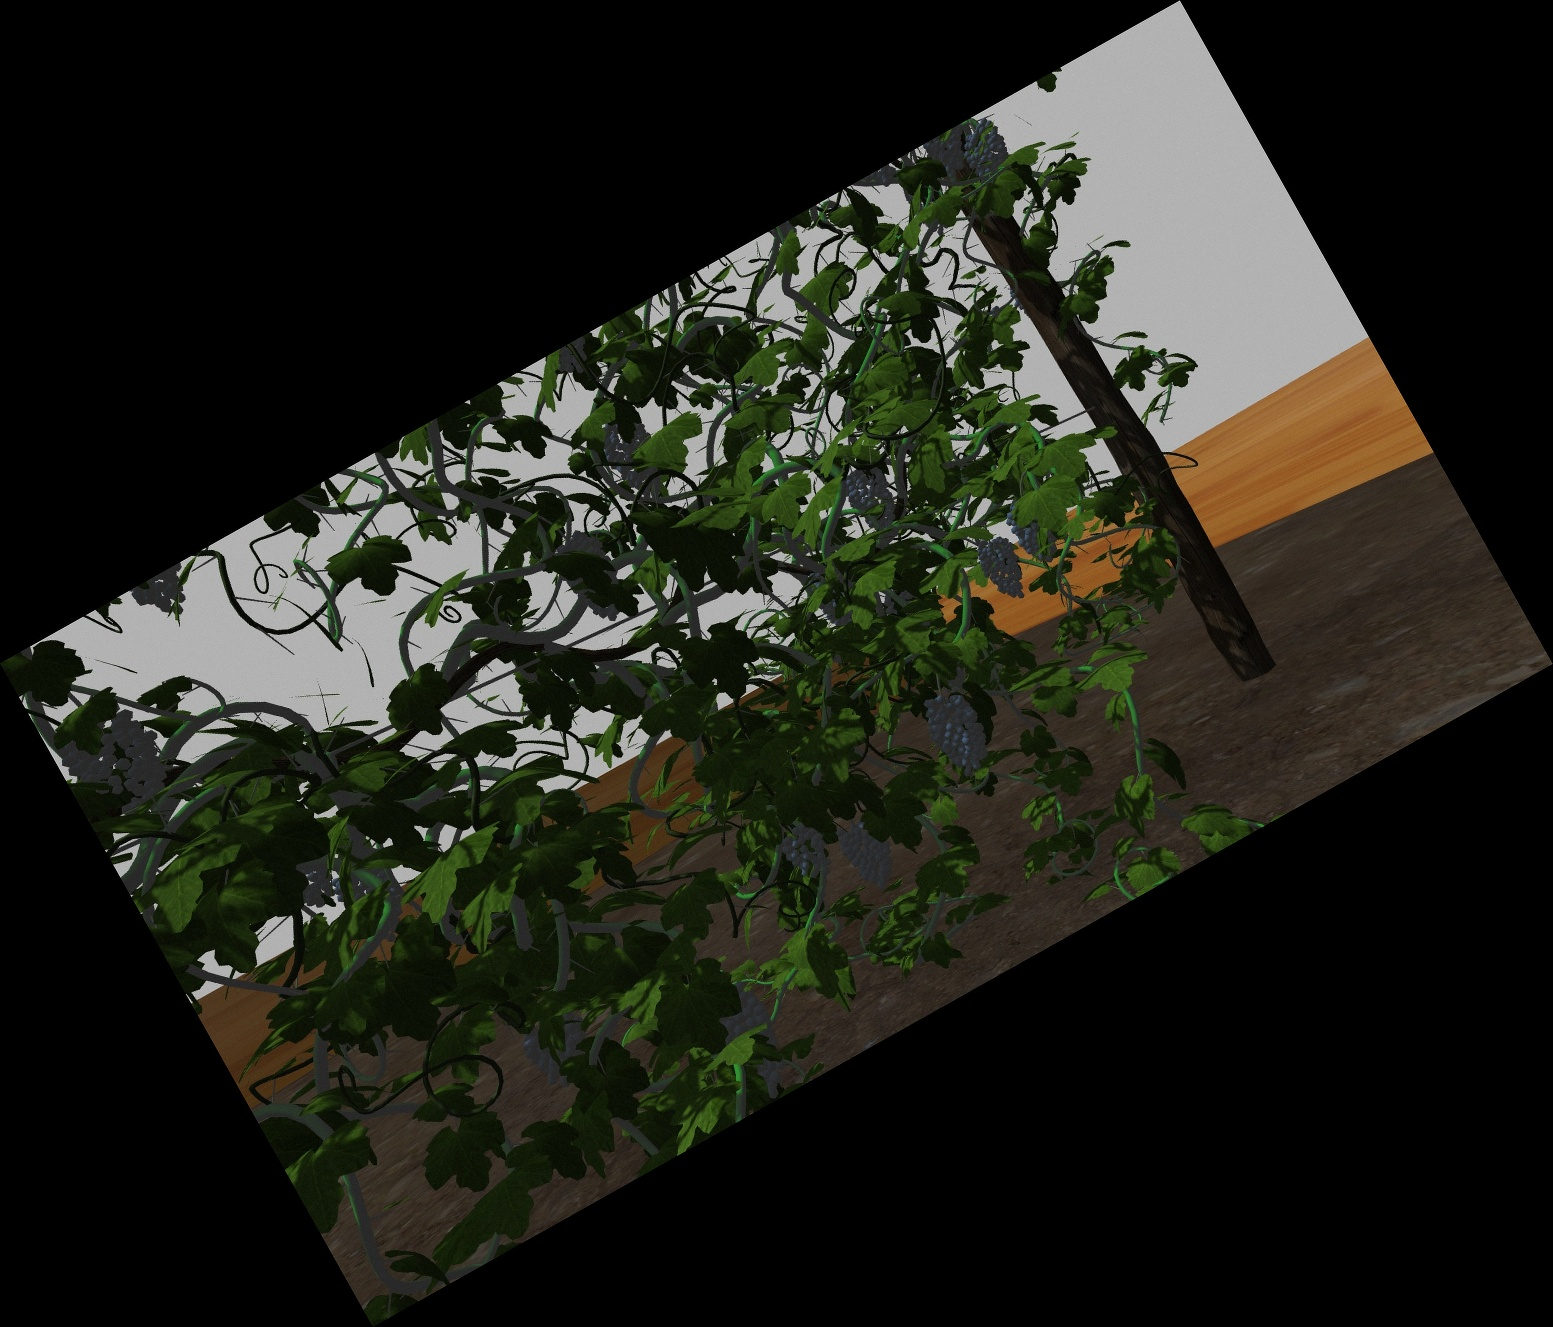grape: (74, 721, 163, 810), (723, 987, 783, 1094), (932, 692, 982, 773), (530, 1022, 590, 1081), (848, 821, 890, 885), (854, 469, 894, 527), (983, 541, 1020, 599), (784, 828, 827, 874), (1016, 506, 1049, 563), (967, 124, 1006, 172)
